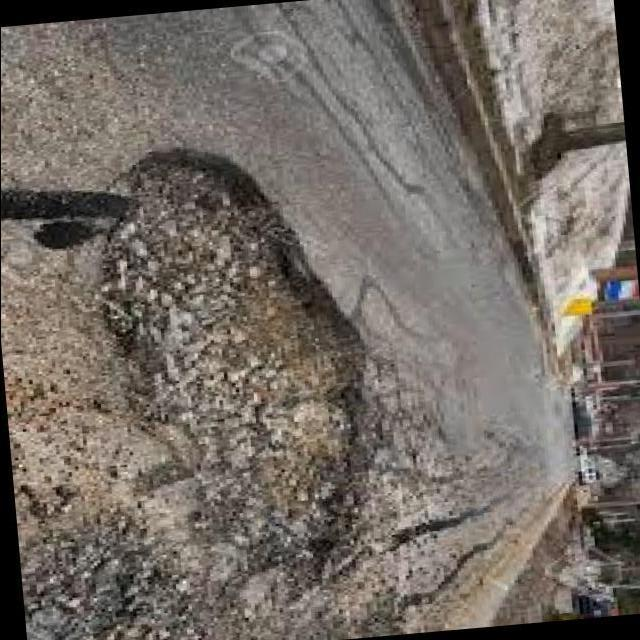pothole: (78, 162, 363, 549)
